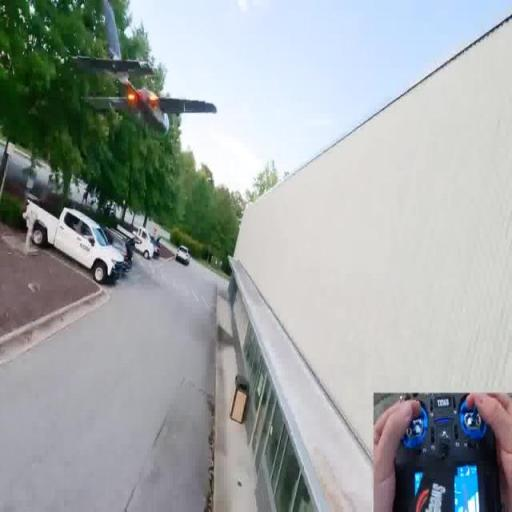uav: (65, 2, 221, 148)
